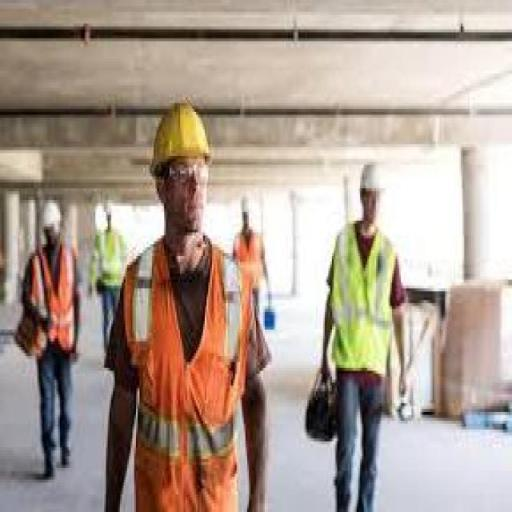helmet: (147, 92, 219, 182), (351, 153, 392, 206), (40, 197, 66, 236)
vest: (118, 232, 252, 512), (318, 224, 404, 392), (26, 238, 80, 362)
